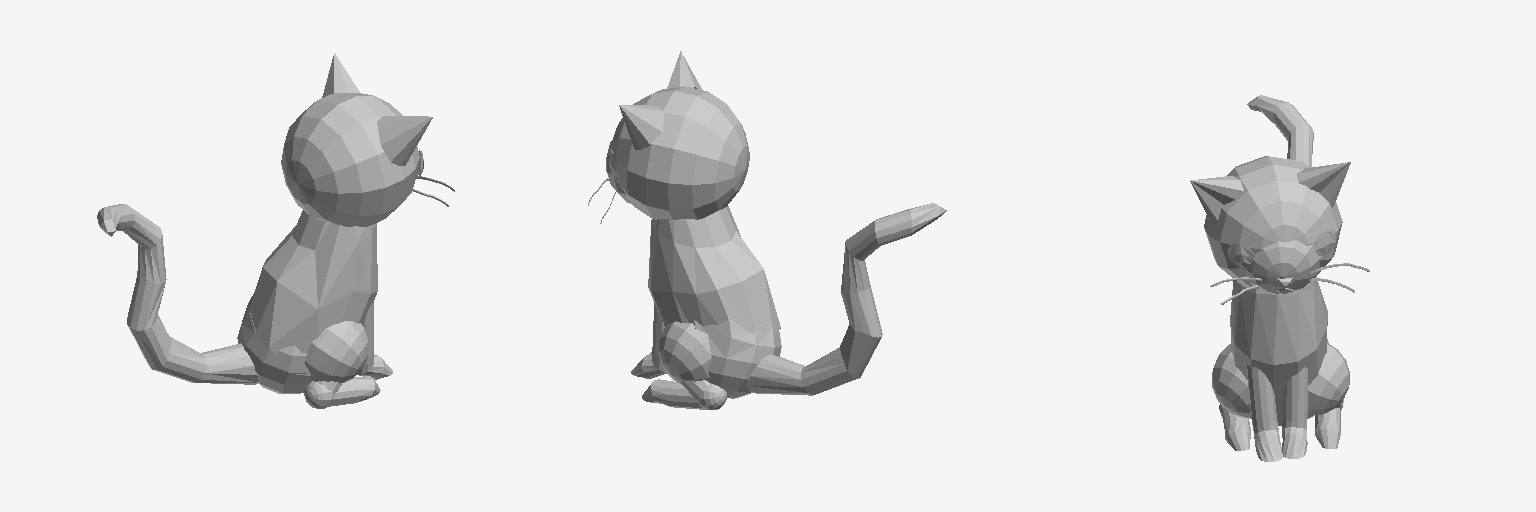
The model's file is Cat.obj.
The picture shows the model from 3 angles: view 1: azimuth 30°, elevation 25°; view 2: azimuth 150°, elevation 25°; view 3: azimuth 270°, elevation 25°; orthographic projection.
Bounding box in the file's own units: 1.31 × 1.14 × 0.6252.